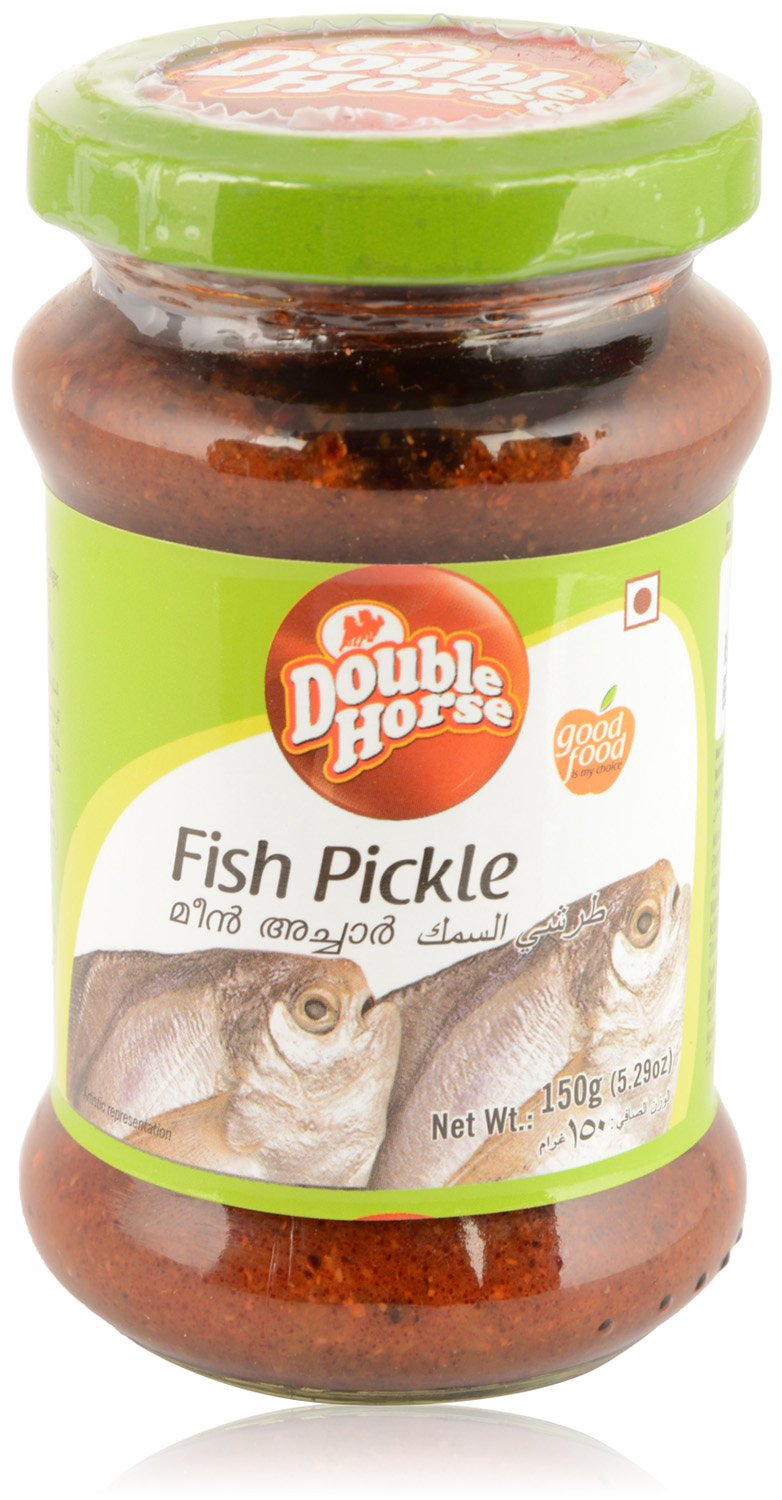nonveg_red: (623, 568, 662, 633)
